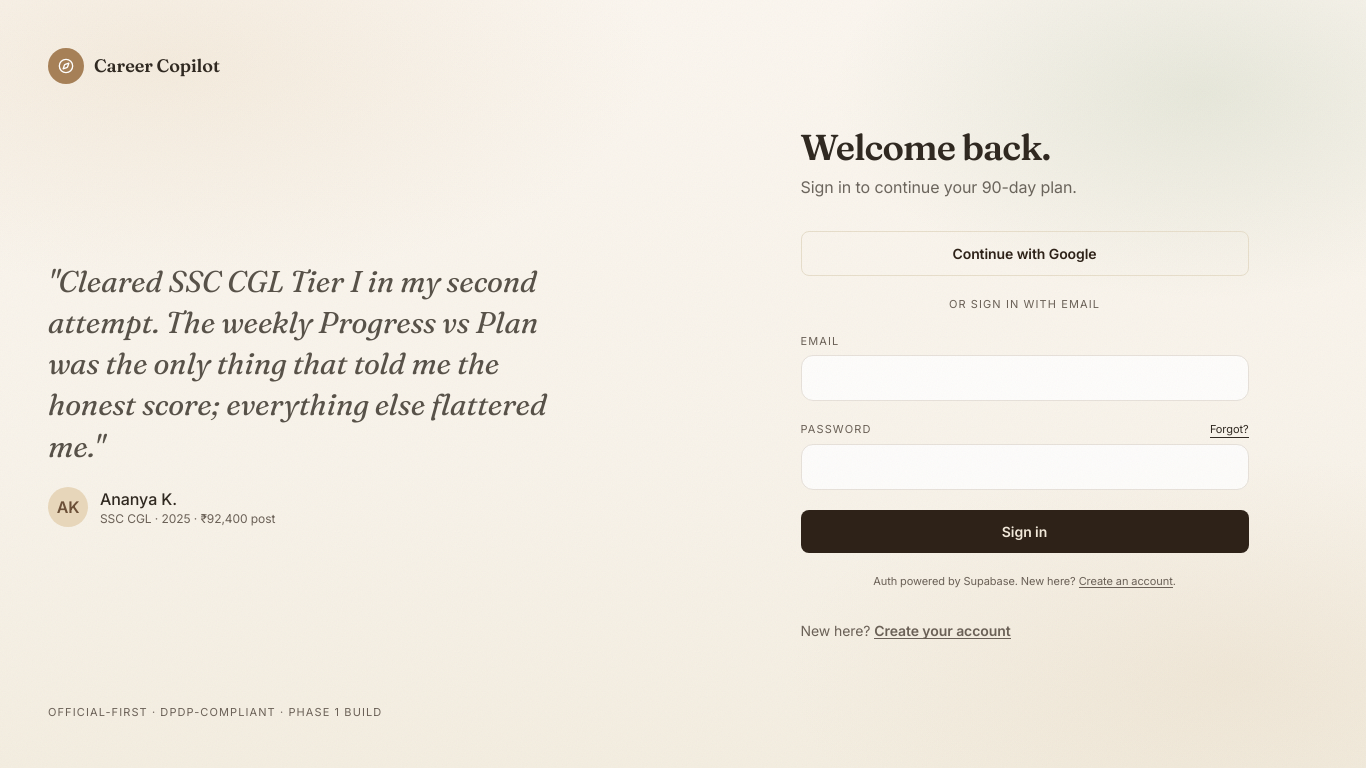
resets Turnstile after failed login
Type "u@x.com" into the field with test id "login-email".
click(1024, 378); type("u@x.com")  # box [800,355,1248,401]
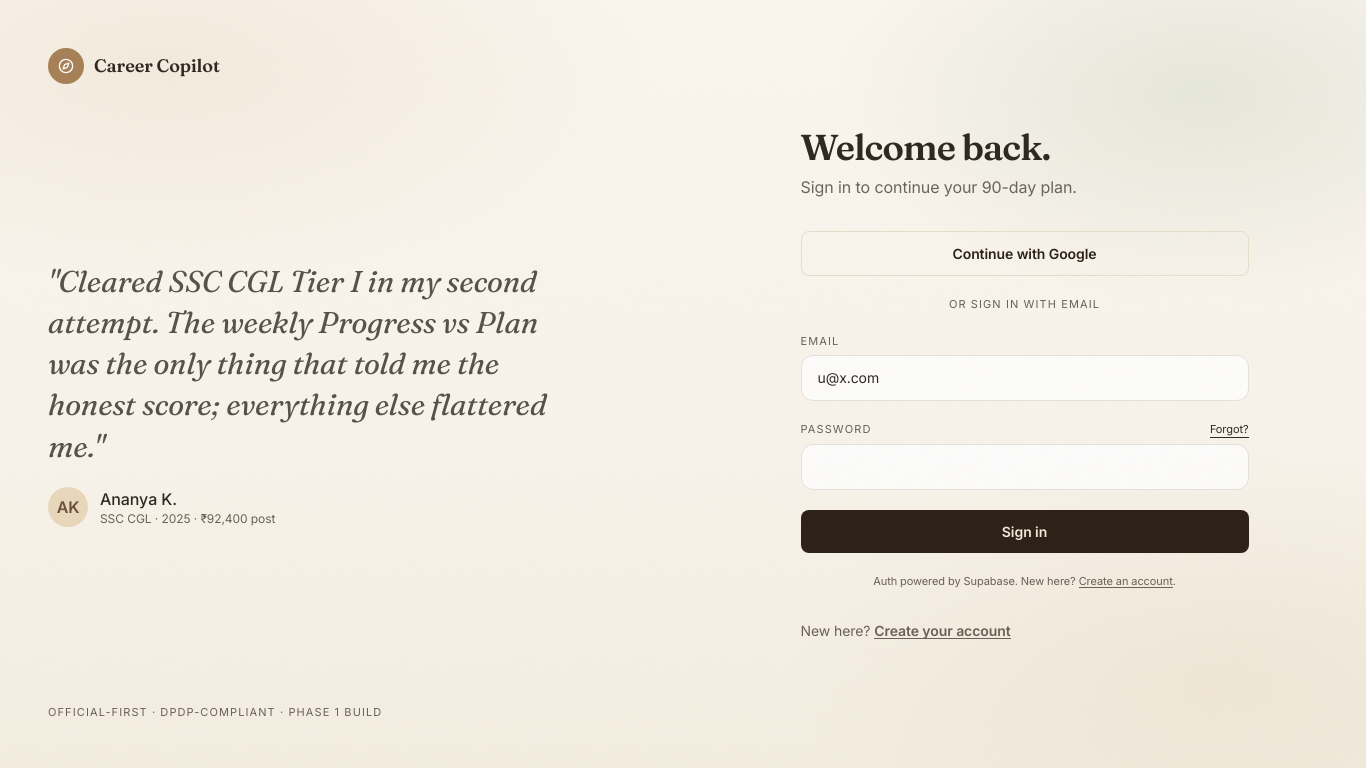
Type "pw12345" into the password field with test id "login-password".
click(1024, 466); type("pw12345")  # box [800,444,1248,490]
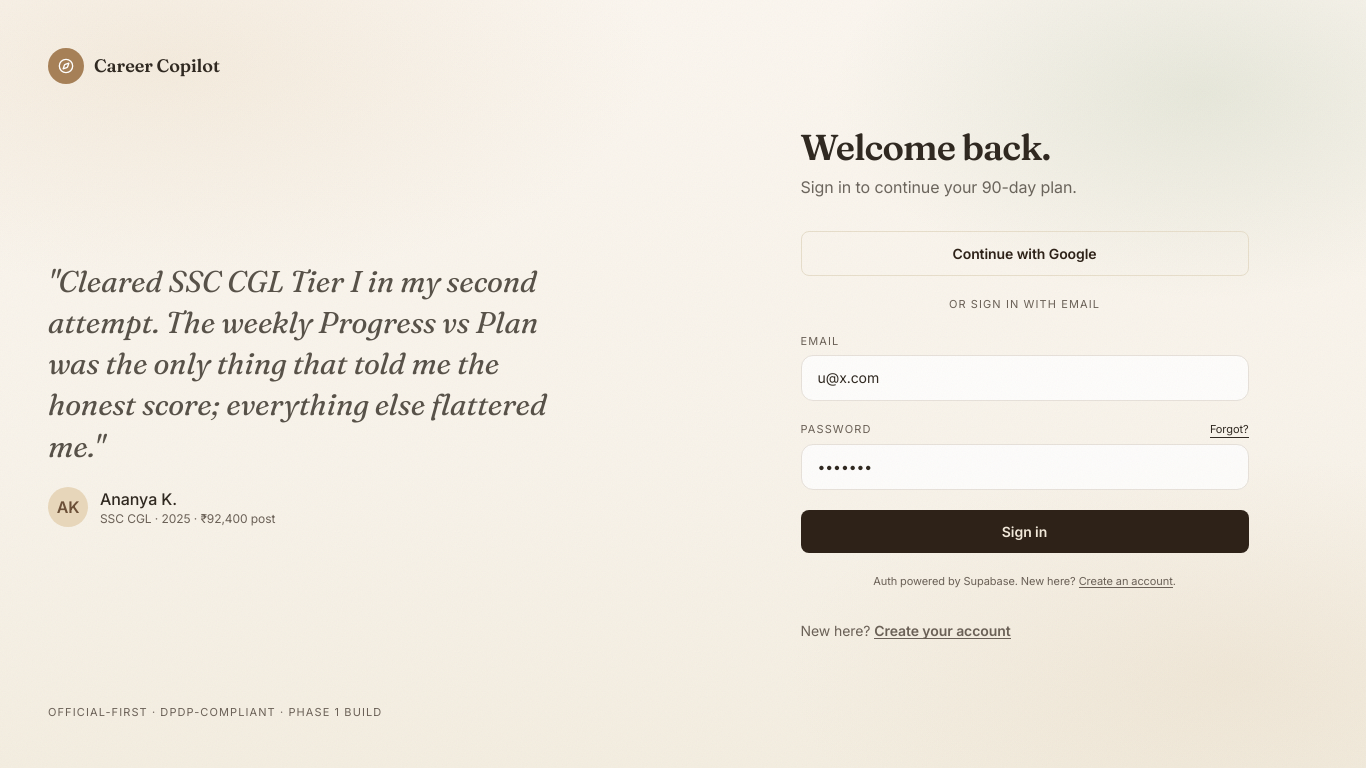
Click the button with test id "login-submit".
click(1024, 531)  # box [800,510,1248,553]
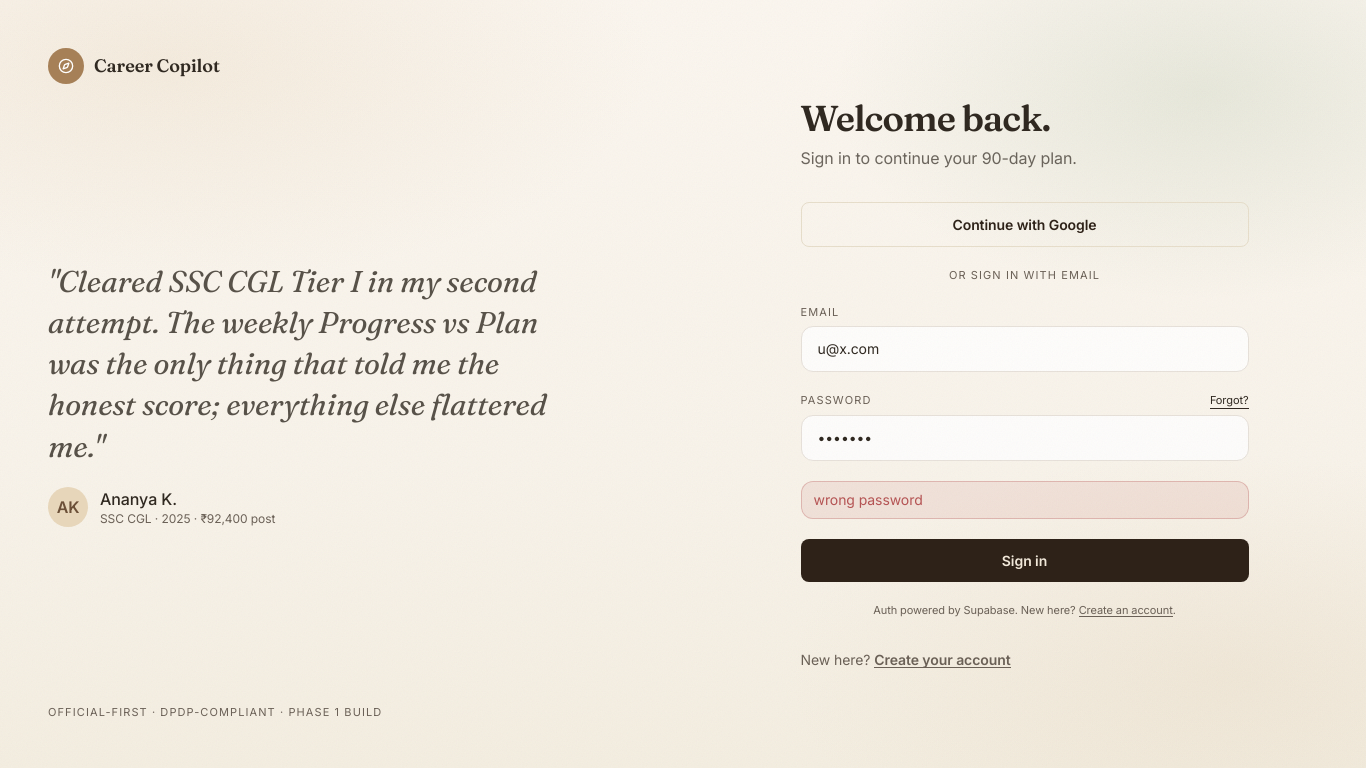
Result: the text "wrong password" is shown at [800,480,1248,518]
